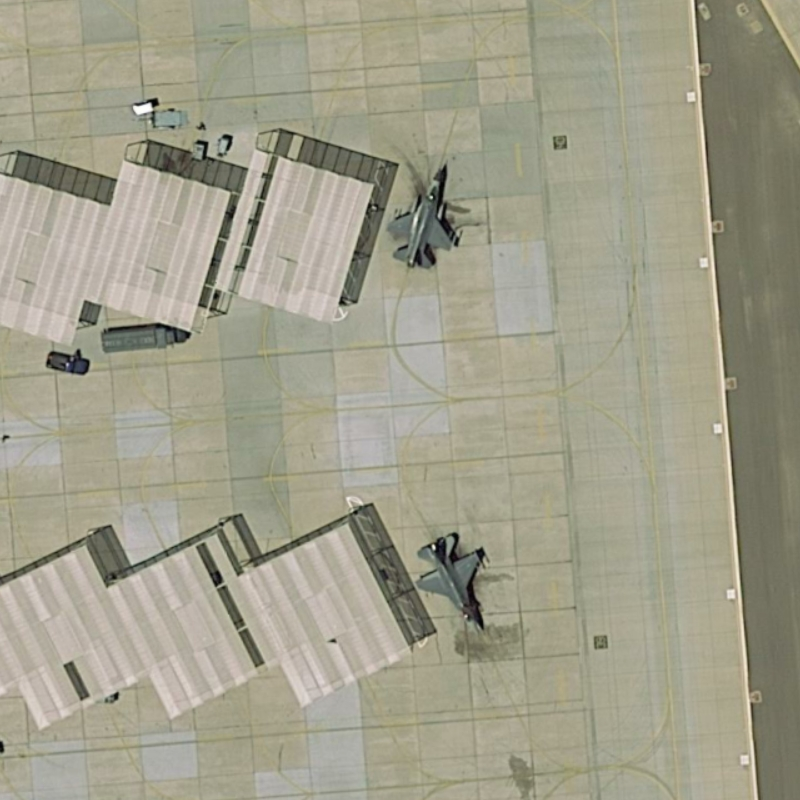A5: (405, 522, 501, 642), (382, 156, 465, 274)
